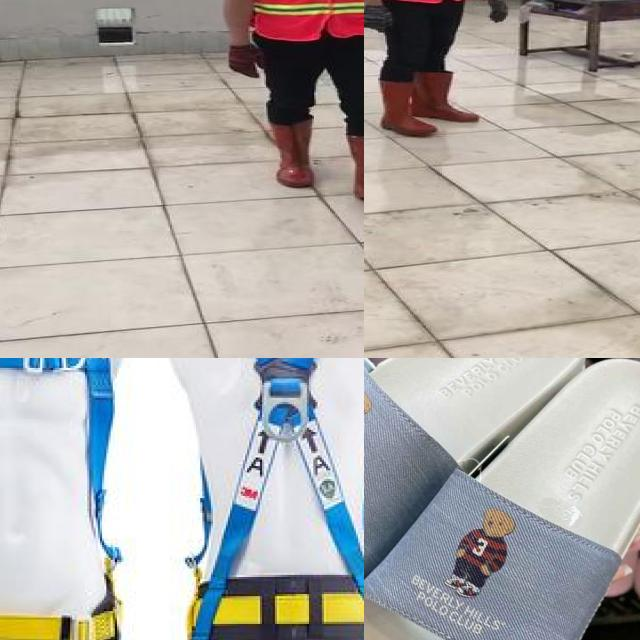Harness: (183, 358, 364, 640), (0, 358, 121, 640)
Sandals: (364, 358, 640, 640)
boots: (410, 70, 481, 122), (268, 119, 316, 185), (378, 80, 433, 136), (346, 134, 364, 210)
hand_glove: (227, 45, 262, 80), (364, 8, 395, 36), (484, 0, 513, 26)
person: (214, 0, 364, 229), (364, 0, 511, 139)
vest: (245, 0, 364, 39)
